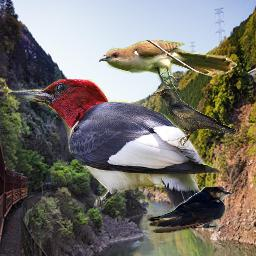Crow: (151, 88, 237, 146)
Cuckoo: (98, 40, 238, 89)
Swallow: (147, 186, 232, 233)
Woodpecker: (8, 79, 220, 230)
